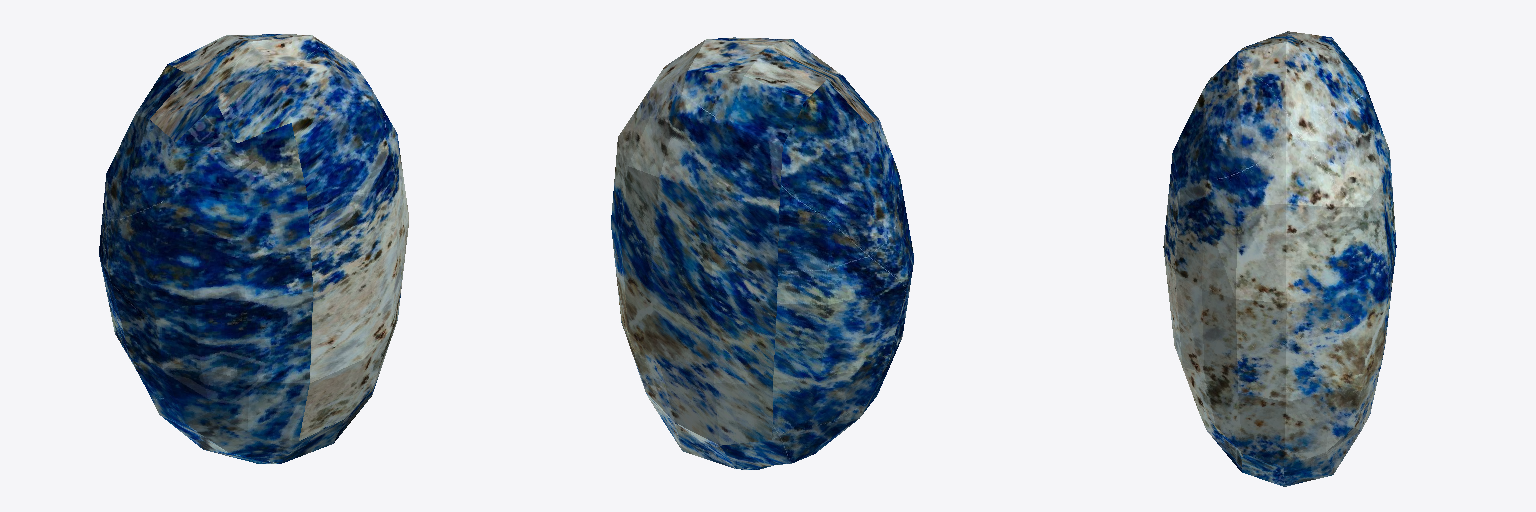
3 views of the same model, side by side, from view 1: azimuth 30°, elevation 25°; view 2: azimuth 150°, elevation 25°; view 3: azimuth 270°, elevation 25° (orthographic).
Visible parts, largest first — view 1: Box001; view 2: Box001; view 3: Box001.
Boxes of the visible parts, x1=… form: Box001: x1=99, y1=34, x2=408, y2=463; Box001: x1=611, y1=37, x2=913, y2=469; Box001: x1=1163, y1=31, x2=1396, y2=486.
Bounding box in the file's own units: 27.28 × 38.65 × 19.22.
1 materials, 1 textured.